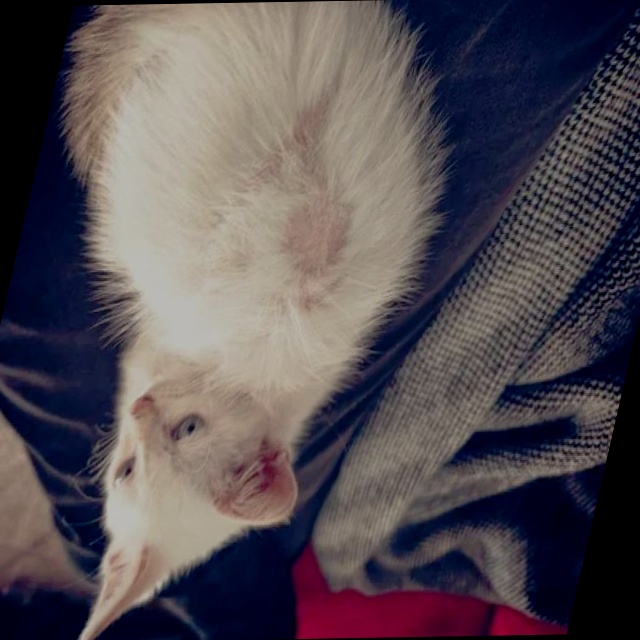hairloss: (245, 103, 371, 286)
